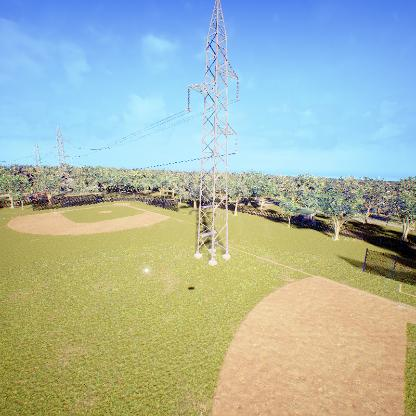tower: (184, 0, 244, 266), (48, 123, 73, 175)
